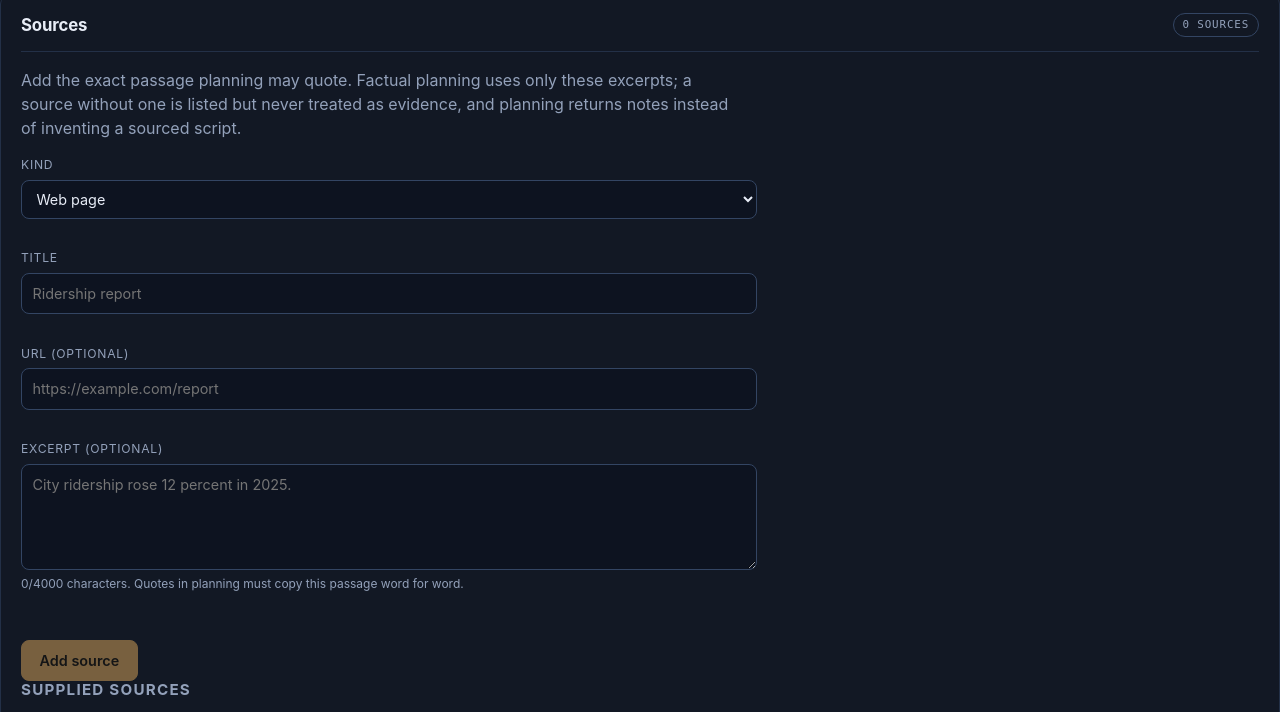
Test: SourcesPanel › flags a source without an excerpt as unusable evidence
Type "Untitled notes" into the field labelled "Title". click: (389, 294)
box: [21, 273, 757, 314]
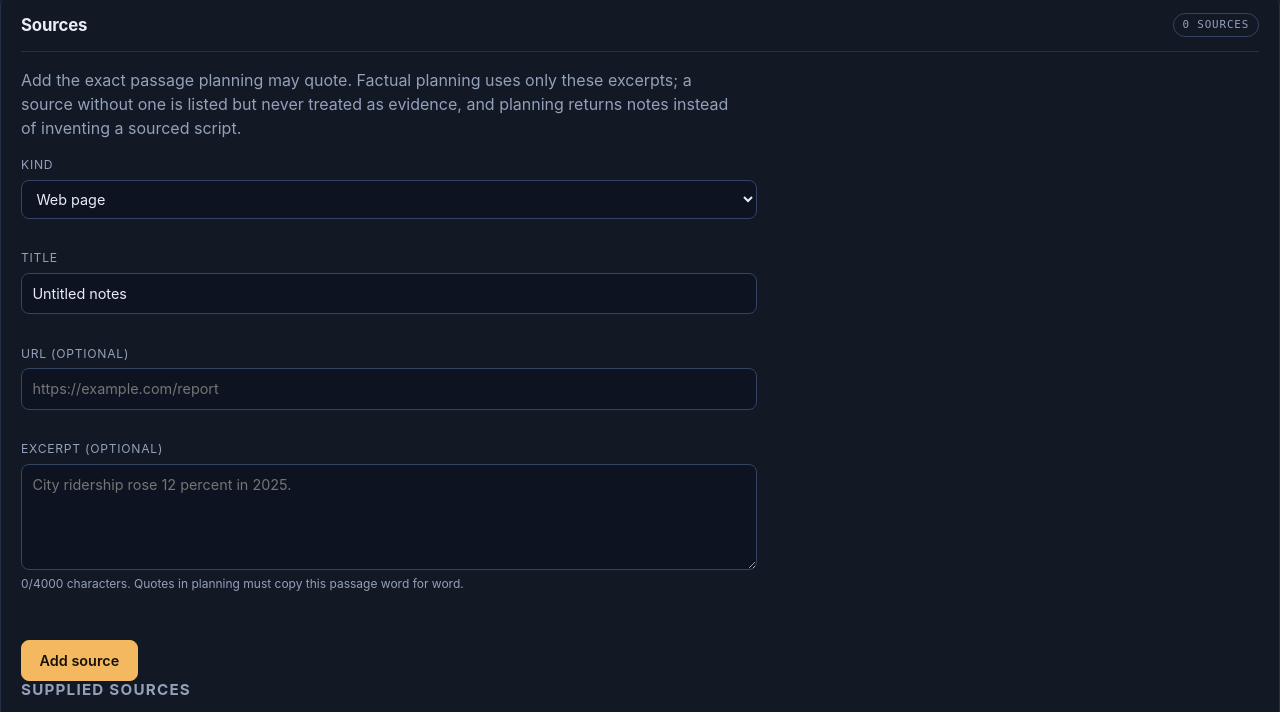
Click the button "Add source". click: click(79, 660)
box: [21, 640, 138, 681]
(page scrolled)
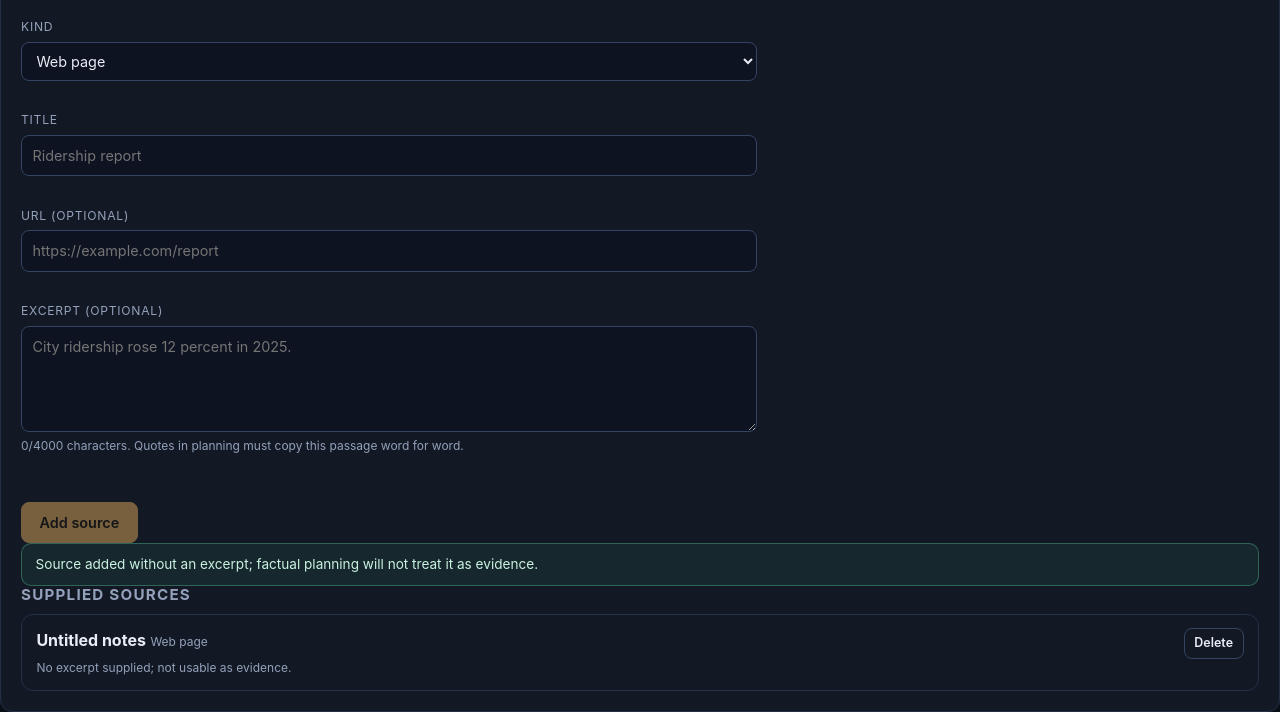
Expected: the text "Untitled notes" is shown, [36, 630, 146, 650]
Expected: the text "No excerpt supplied; not usable as evidence." is shown, [36, 660, 292, 675]
Expected: the text "factual planning will not treat it as evidence" is shown, [36, 556, 538, 572]
